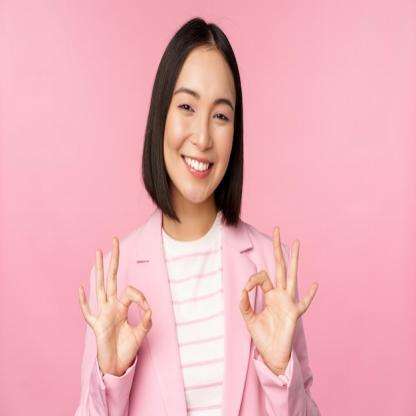ok: (238, 222, 322, 375), (76, 232, 155, 381)
